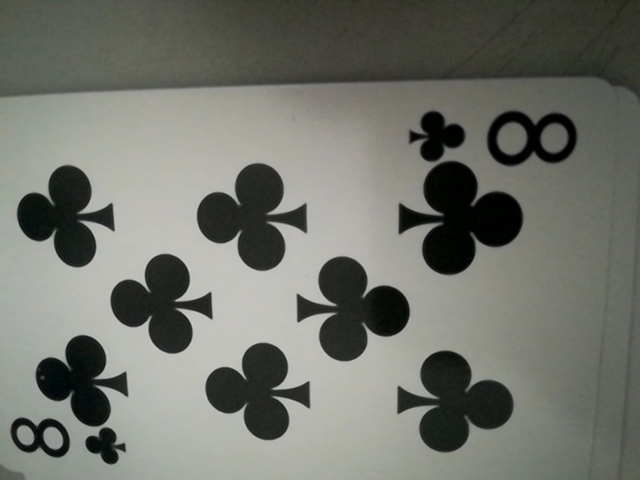mh 8: (402, 96, 574, 170), (4, 413, 132, 471)
